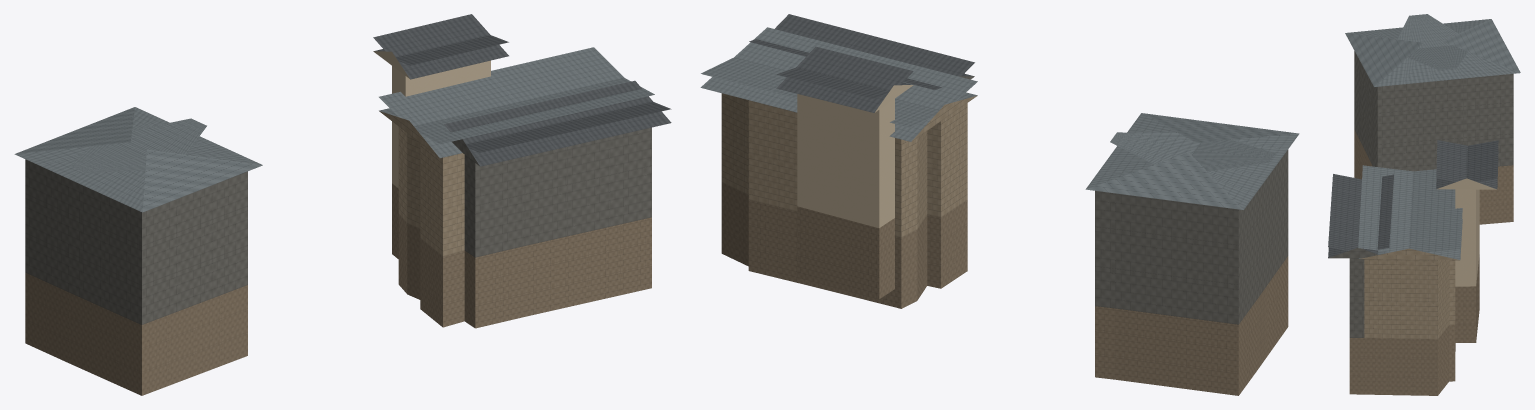
File: bld_c10_17_439.gltf
3 views of the same model, side by side, from view 1: azimuth 30°, elevation 25°; view 2: azimuth 150°, elevation 25°; view 3: azimuth 270°, elevation 25° (orthographic). The views are drawn at different scales.
Parts seen in each view (by area): view 1: bld_c10_17_439; view 2: bld_c10_17_439; view 3: bld_c10_17_439.
Part boxes in pixels (bbox=[...]): bld_c10_17_439: bbox=[14, 14, 671, 395]; bld_c10_17_439: bbox=[700, 14, 1299, 395]; bld_c10_17_439: bbox=[1328, 14, 1520, 395].
Size of the model in its own units: 42.19 by 16.4 by 15.76.
9 materials, 9 textured.
